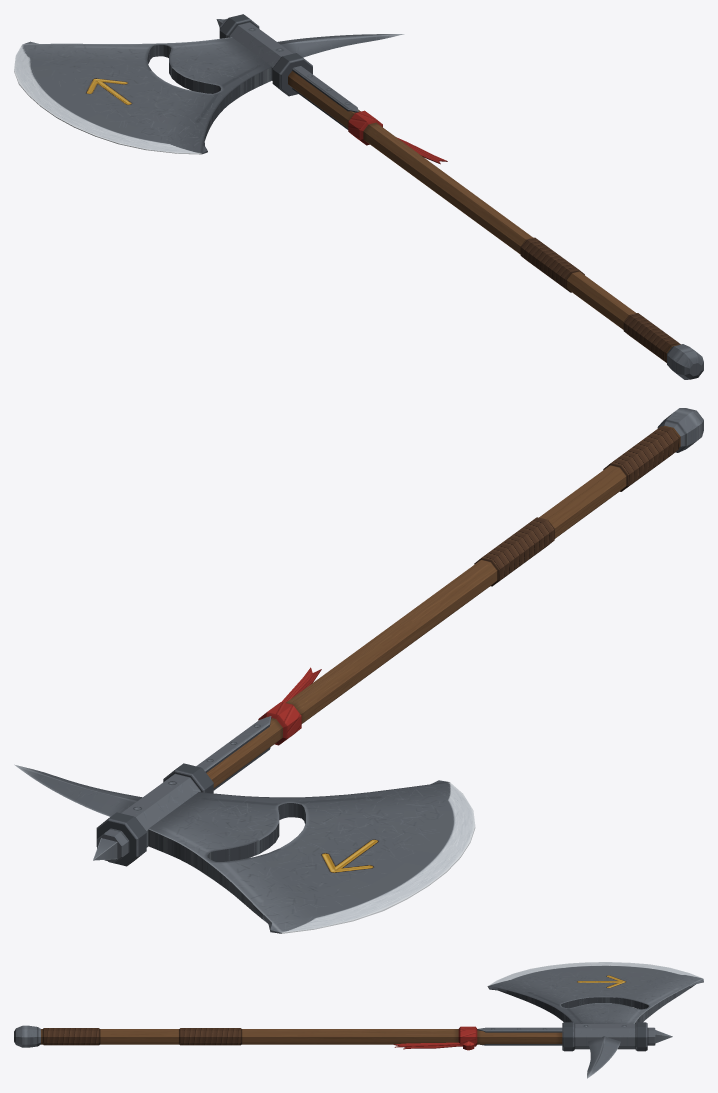
The model's file is IronGreataxe.fbx.
The picture shows the model from 3 angles, top to bottom: view 1: azimuth 30°, elevation 25°; view 2: azimuth 150°, elevation 25°; view 3: azimuth 270°, elevation 25°; orthographic projection. The views are drawn at different scales.
Parts seen in each view (by area): view 1: Blade, Haft, Eye, Spike, Knob, Langets, Cloth; view 2: Blade, Haft, Eye, Spike, Cloth, Langets, Knob, Cap; view 3: Blade, Haft, Eye, Spike, Cloth, Langets, Knob, Cap.
Part boxes in pixels (x1,y1,x2,y2): Blade: (14, 37, 271, 154); Haft: (288, 71, 680, 362); Eye: (219, 14, 312, 96); Spike: (277, 34, 404, 57); Knob: (667, 344, 703, 379); Langets: (292, 66, 358, 129); Cloth: (348, 110, 447, 164); Blade: (148, 780, 475, 933); Haft: (206, 425, 680, 788); Eye: (96, 763, 213, 866); Spike: (14, 764, 142, 816); Cloth: (258, 667, 321, 745); Langets: (196, 716, 271, 790); Knob: (657, 408, 703, 452); Cap: (93, 828, 129, 862); Blade: (487, 962, 703, 1023); Haft: (41, 1028, 562, 1045); Eye: (562, 1022, 647, 1051); Spike: (587, 1036, 620, 1078); Cloth: (393, 1026, 477, 1050); Langets: (477, 1027, 562, 1045); Knob: (14, 1025, 40, 1047); Cap: (647, 1027, 672, 1045).
Size of the model in its own units: 0.5331 by 1.33 by 0.052.
